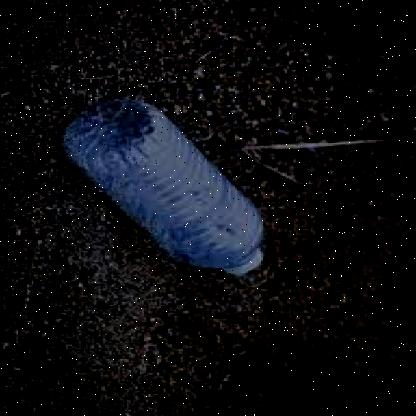Plastic Bottle: (61, 99, 262, 276)
